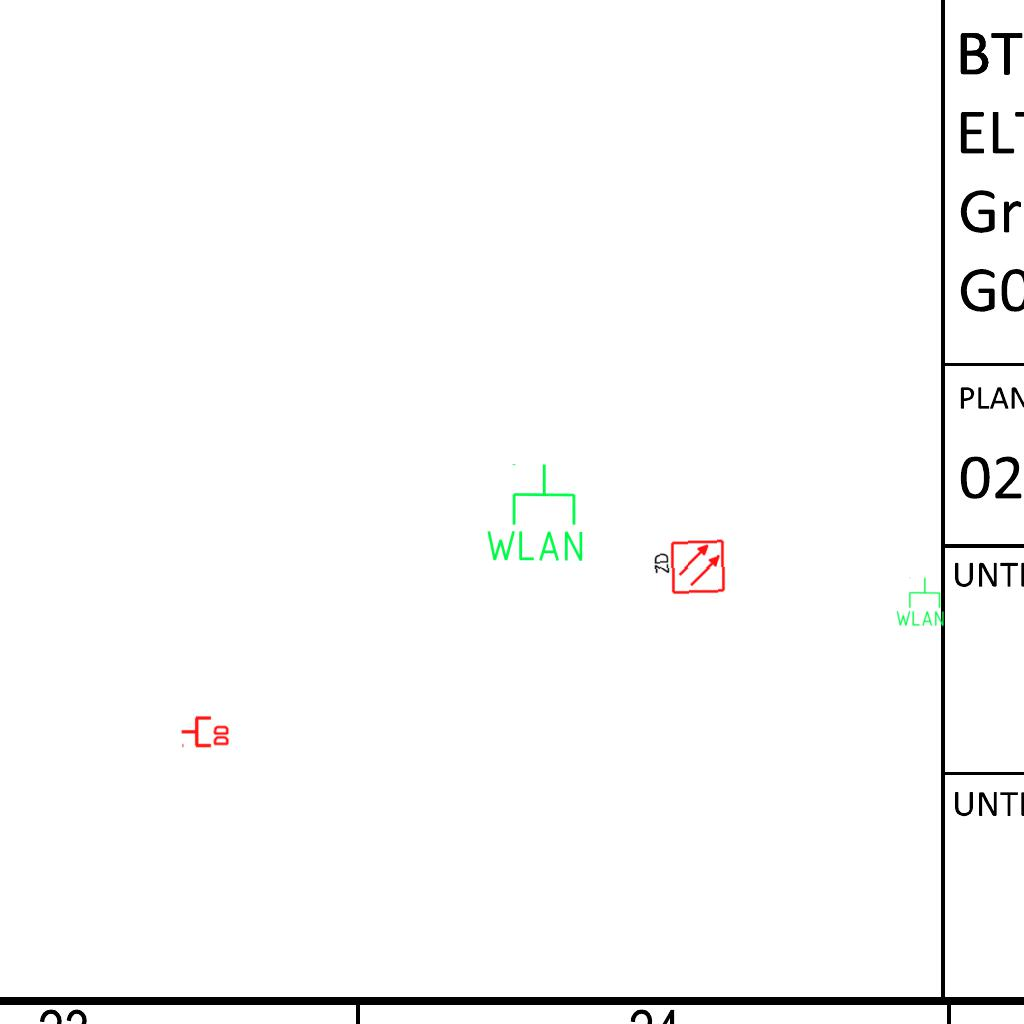Datenanschluss_zweifach: (180, 714, 231, 748)
WLAN: (482, 461, 587, 565), (894, 576, 946, 628)
ZD_Melder_in_Zwischendecke_mit_Revisionsoeffnung_mind_40_x_40_cm: (650, 538, 727, 598)
